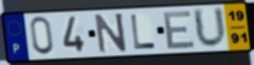0: (28, 15, 56, 58)
4: (61, 15, 87, 55)
E: (162, 9, 197, 51)
L: (129, 13, 157, 50)
N: (93, 12, 129, 55)
U: (191, 5, 229, 50)
